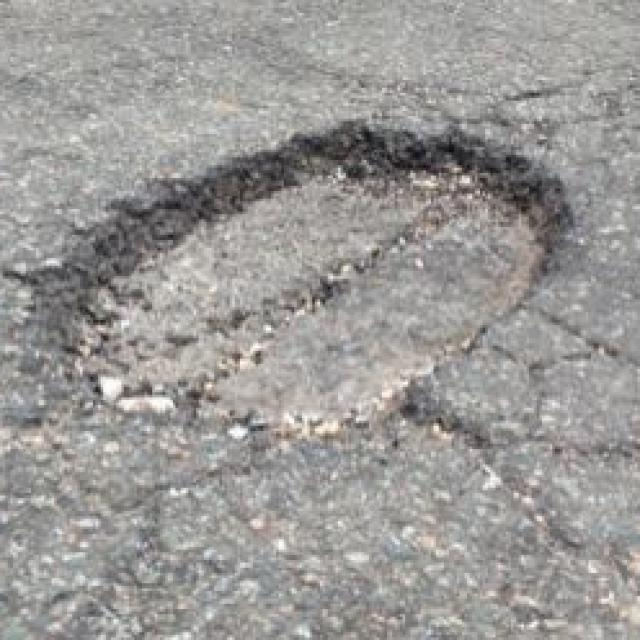pothole: (15, 105, 615, 470)
